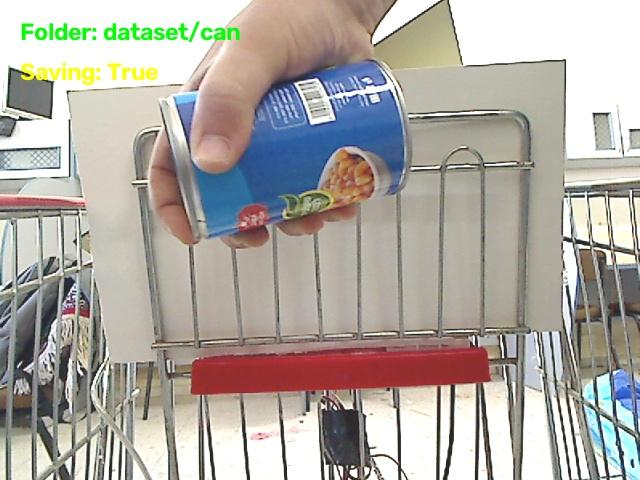can: (160, 60, 410, 239)
